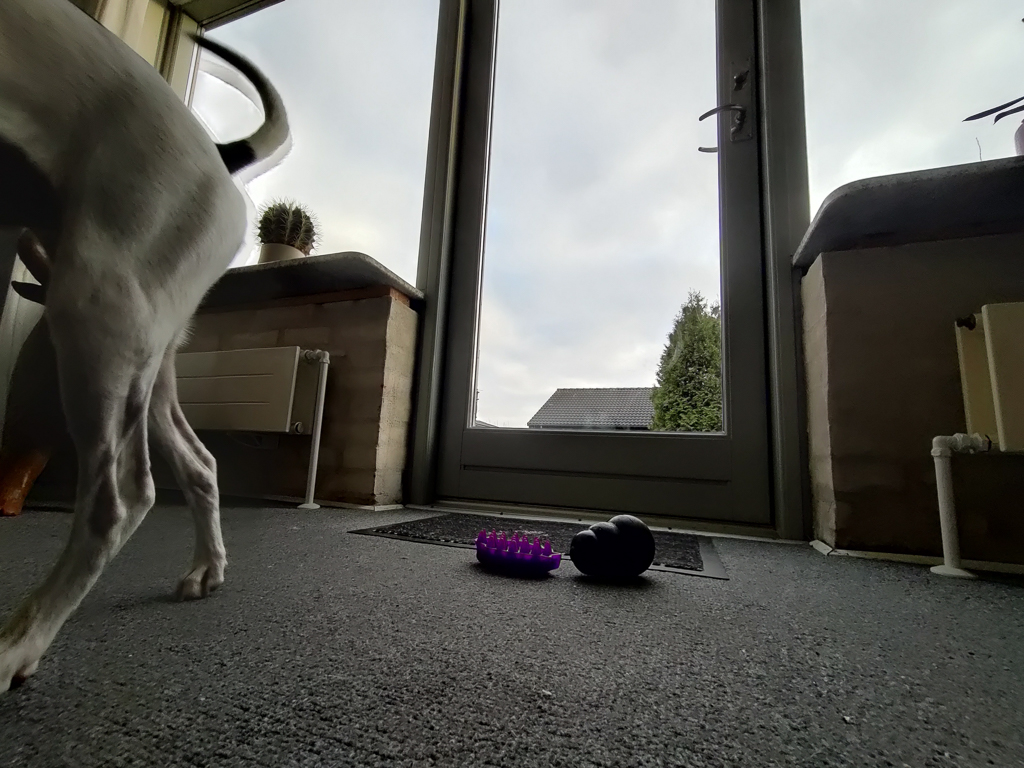Cattle: (0, 272, 160, 521)
Dog: (0, 0, 301, 709)
